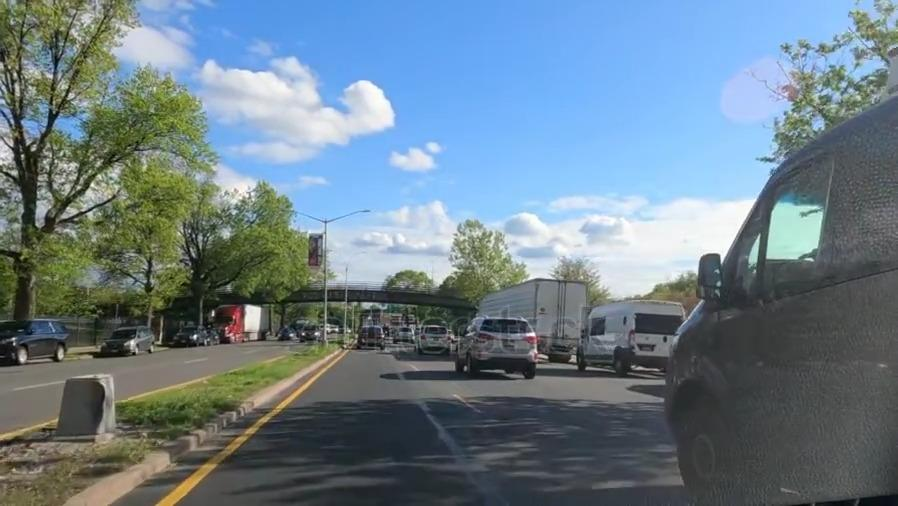car: (457, 319, 535, 375), (0, 318, 72, 363), (94, 327, 159, 354), (414, 326, 452, 354), (353, 323, 387, 348), (172, 326, 210, 346), (391, 326, 415, 340)
truck: (479, 280, 593, 339)
van: (689, 99, 897, 500), (581, 305, 679, 371)
wheel: (669, 400, 735, 503)
